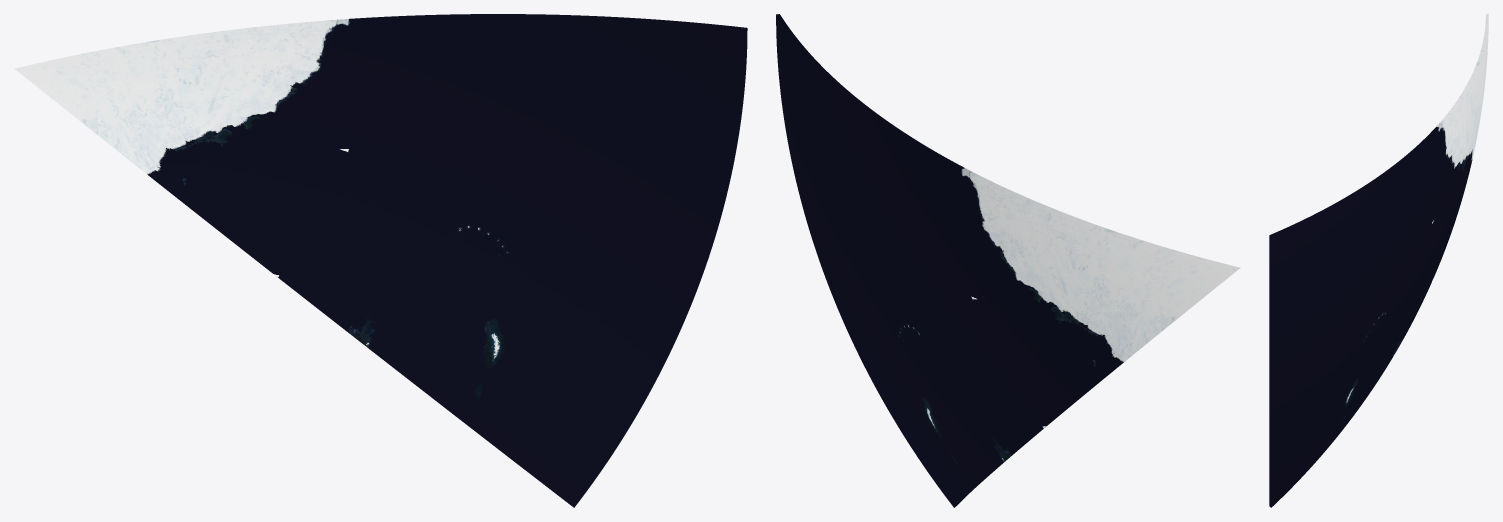
3 views of the same model, side by side, from view 1: azimuth 30°, elevation 25°; view 2: azimuth 150°, elevation 25°; view 3: azimuth 270°, elevation 25° (orthographic). The views are drawn at different scales.
Visible parts, largest first — view 1: DefaultName.012, DefaultName.009, DefaultName.003, DefaultName.006; view 2: DefaultName.009, DefaultName.012, DefaultName.006, DefaultName.003; view 3: DefaultName.009, DefaultName.012, DefaultName.006, DefaultName.003.
Boxes of the visible parts, x1,y1,x2,y2 form: DefaultName.012: (278, 152, 702, 507); DefaultName.009: (348, 14, 747, 275); DefaultName.003: (16, 69, 347, 277); DefaultName.006: (15, 17, 372, 152); DefaultName.009: (776, 14, 971, 299); DefaultName.012: (822, 269, 1043, 507); DefaultName.006: (947, 160, 1240, 299); DefaultName.003: (972, 269, 1238, 428); DefaultName.009: (1269, 134, 1431, 401); DefaultName.012: (1269, 225, 1431, 507); DefaultName.006: (1430, 14, 1488, 223); DefaultName.003: (1432, 29, 1488, 281).
Bounding box in the file's own units: 45176 × 31944 × 18870.
4 materials, 4 textured.
